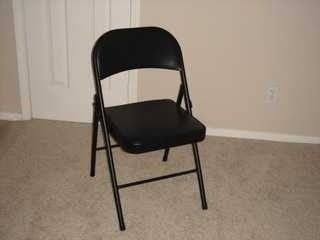obstacle: (91, 27, 207, 229)
